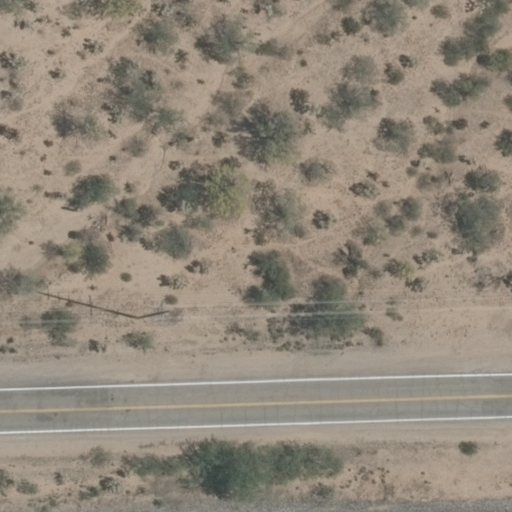DT: (133, 305, 174, 324)
